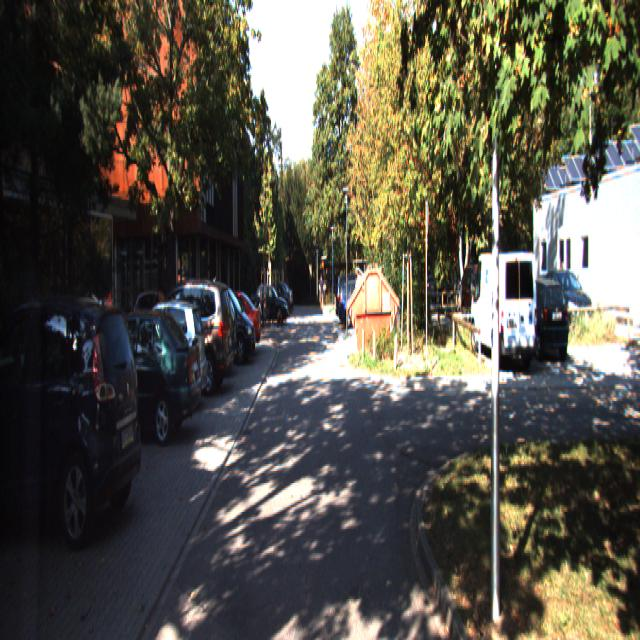Car: (0, 288, 148, 550), (73, 307, 204, 451), (132, 277, 235, 400), (116, 298, 209, 419), (468, 246, 539, 373), (191, 280, 258, 369), (509, 273, 571, 361), (200, 290, 263, 358), (339, 276, 380, 326)
DontCare: (254, 275, 293, 322), (422, 272, 436, 304), (318, 268, 324, 316)
